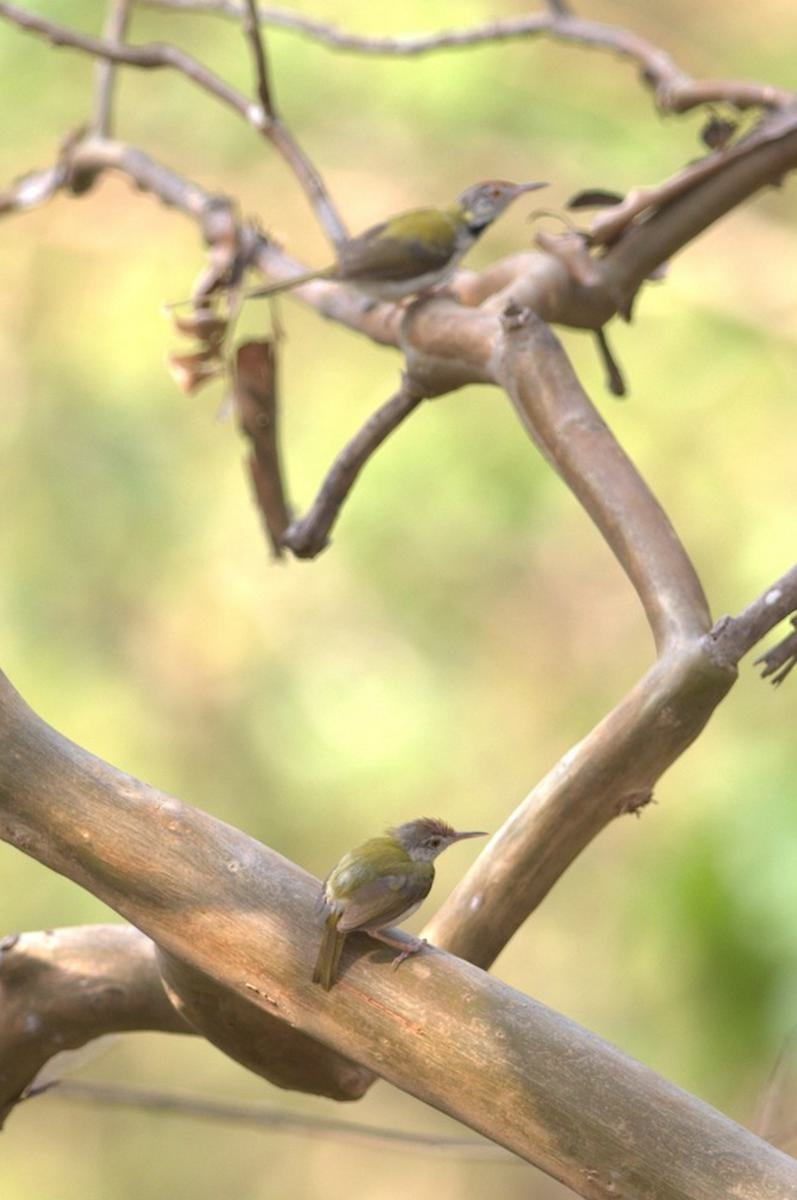tailorbird: (242, 175, 550, 318), (323, 800, 478, 981)
